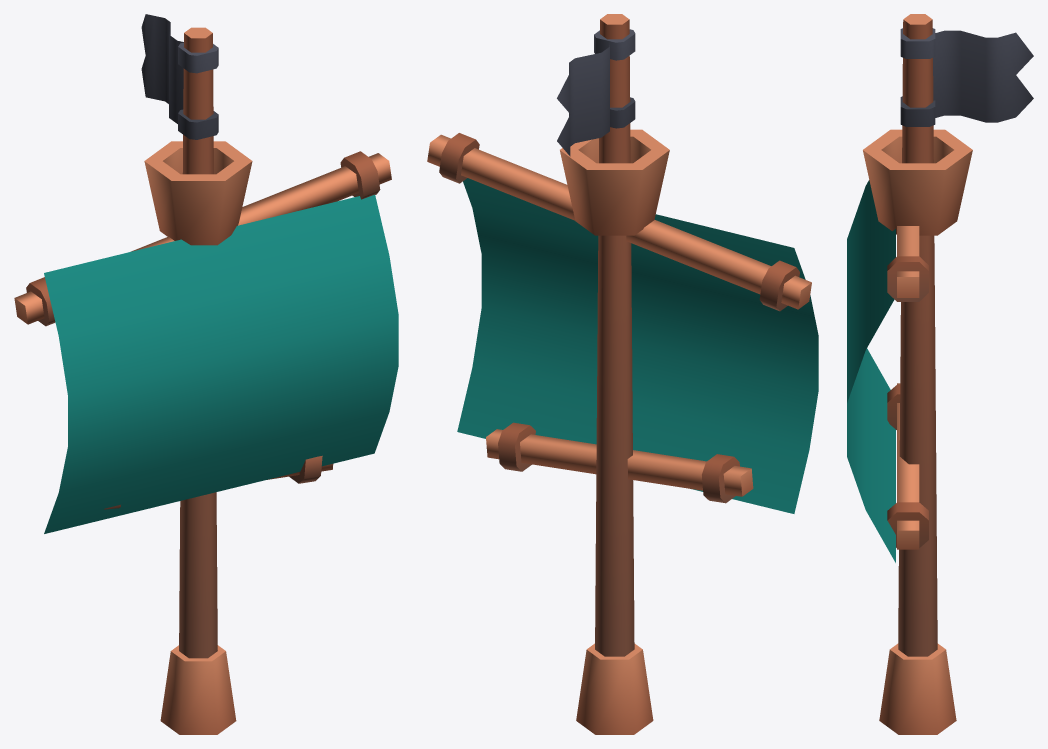
The model's file is module-rigging.glb.
3 views of the same model, side by side, from view 1: azimuth 30°, elevation 25°; view 2: azimuth 150°, elevation 25°; view 3: azimuth 270°, elevation 25° (orthographic).
Parts seen in each view (by area): view 1: Sail cloth • removable, mast.003, sail-a.013, flag-c.010; view 2: Sail cloth • removable, mast.003, sail-a.013, flag-c.010; view 3: mast.003, Sail cloth • removable, flag-c.010, sail-a.013.
Boxes of the visible parts, left/top/right/bottom form: Sail cloth • removable: left=44, top=194, right=398, bottom=533; mast.003: left=144, top=27, right=252, bottom=734; sail-a.013: left=14, top=151, right=391, bottom=509; flag-c.010: left=141, top=14, right=218, bottom=139; Sail cloth • removable: left=457, top=178, right=818, bottom=513; mast.003: left=560, top=14, right=669, bottom=734; sail-a.013: left=427, top=133, right=811, bottom=503; flag-c.010: left=557, top=29, right=635, bottom=156; mast.003: left=863, top=14, right=972, bottom=734; Sail cloth • removable: left=847, top=180, right=895, bottom=562; flag-c.010: left=900, top=28, right=1033, bottom=126; sail-a.013: left=887, top=226, right=928, bottom=549.
Size of the model in its own units: 2.94 by 5.27 by 1.27.
2 materials, 1 textured.
